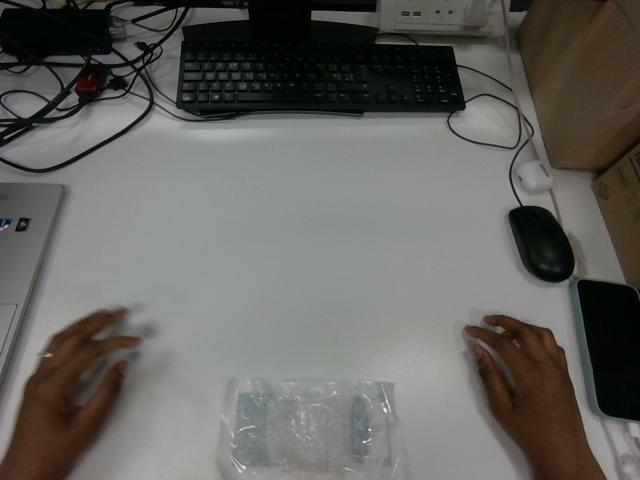gallipot: (217, 379, 401, 479)
